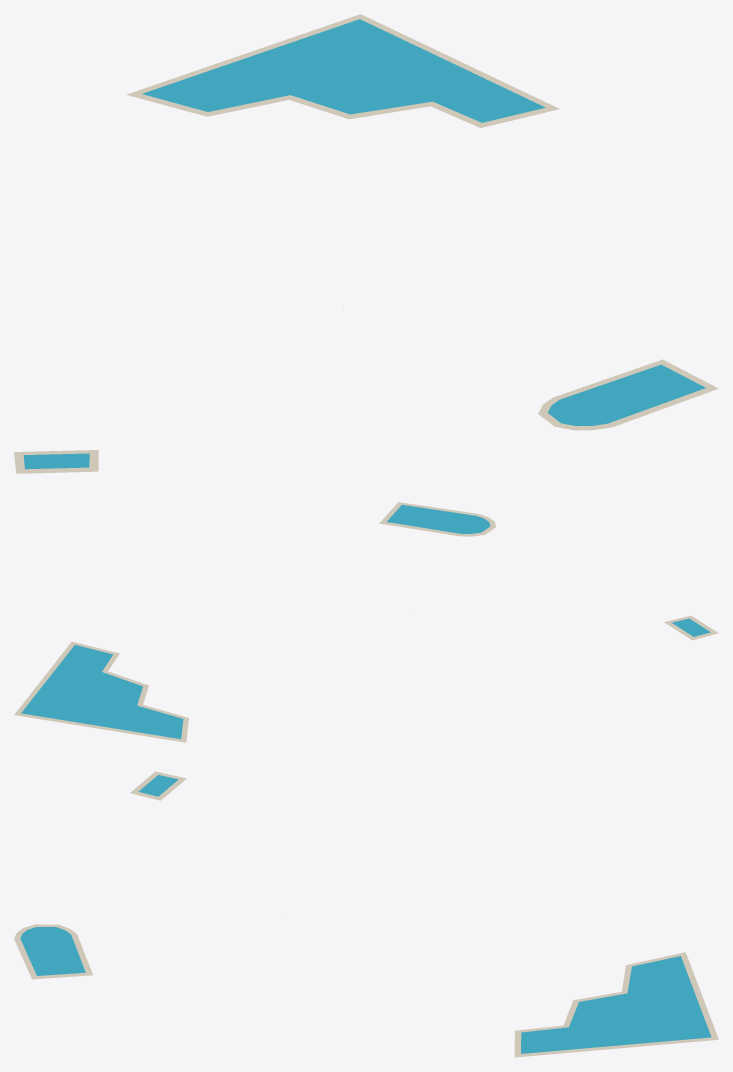
Rendered from pbpool_m25_m8.glb.
The picture shows the model from 3 angles, top to bottom: view 1: azimuth 30°, elevation 25°; view 2: azimuth 150°, elevation 25°; view 3: azimuth 270°, elevation 25°; orthographic projection. The views are drawn at different scales.
Visible parts, largest first — view 1: pbpool_m25_m8_lod0; view 2: pbpool_m25_m8_lod0; view 3: pbpool_m25_m8_lod0.
Part boxes in pixels (x1=…): pbpool_m25_m8_lod0: x1=14, y1=14, x2=718, y2=473; pbpool_m25_m8_lod0: x1=14, y1=502, x2=718, y2=742; pbpool_m25_m8_lod0: x1=14, y1=771, x2=718, y2=1057.
Size of what is drawn, in the model's own units: 132 by 3.27 by 144.
